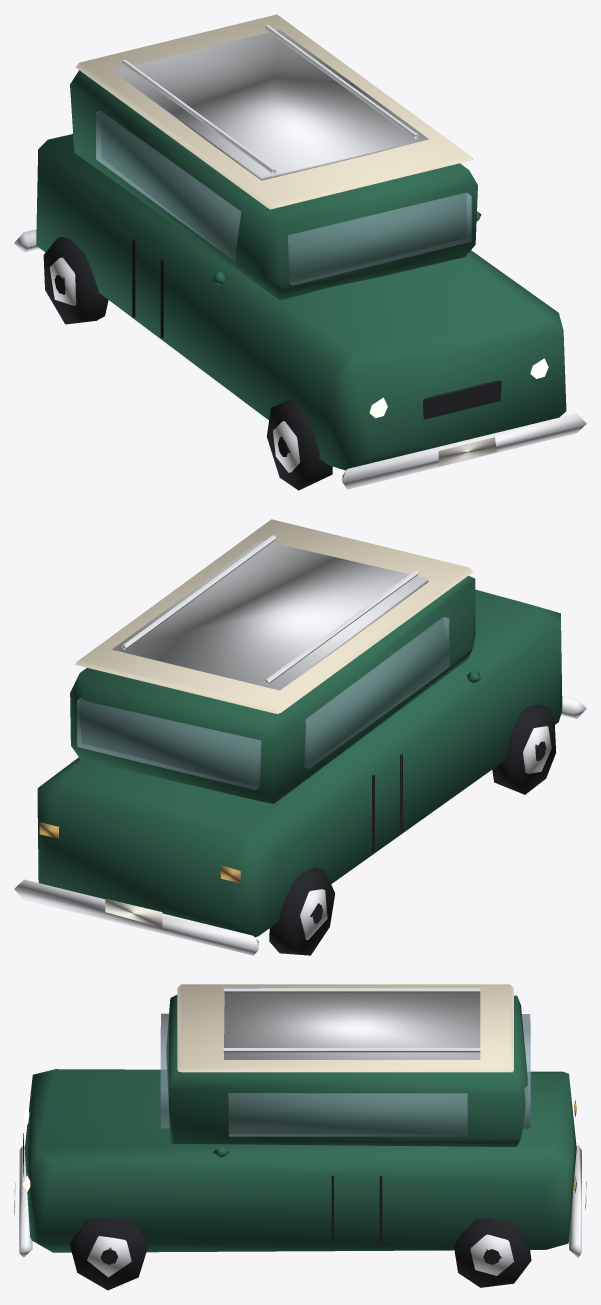
File: lod_car_suv.glb
The picture shows the model from 3 angles, top to bottom: view 1: azimuth 30°, elevation 25°; view 2: azimuth 150°, elevation 25°; view 3: azimuth 270°, elevation 25°; orthographic projection. The views are drawn at different scales.
Visible parts, largest first — view 1: car_suv; view 2: car_suv; view 3: car_suv.
Boxes of the visible parts, left/top/right/bottom form: car_suv: left=14, top=14, right=586, bottom=490; car_suv: left=14, top=519, right=586, bottom=955; car_suv: left=14, top=984, right=586, bottom=1290.
Bounding box in the file's own units: 2.08 × 1.9 × 4.46.
